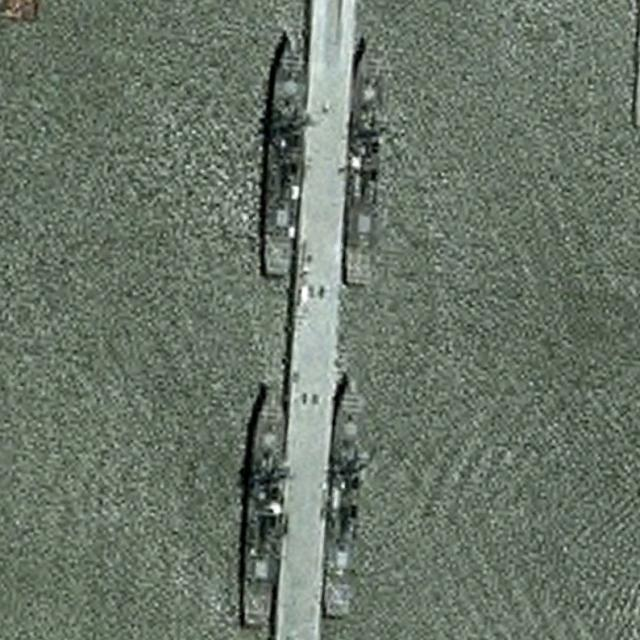Destroyer: (318, 368, 376, 618), (234, 378, 290, 628), (256, 28, 311, 278), (341, 31, 393, 292)
